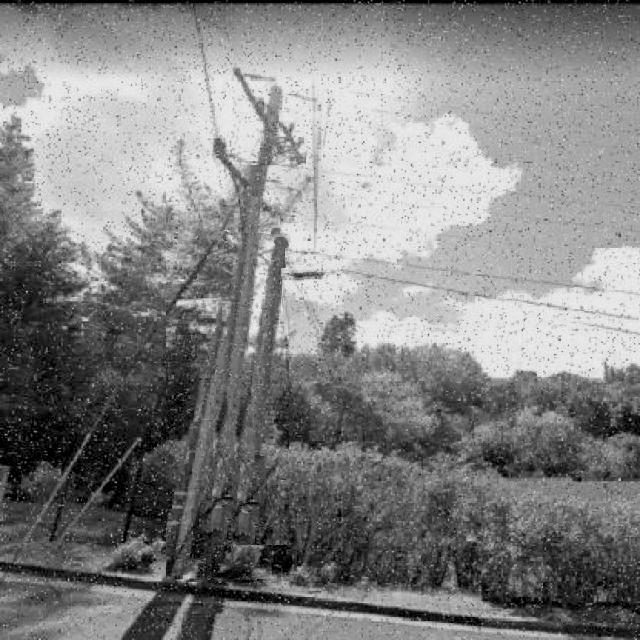crossarm: (233, 66, 306, 165)
pole: (166, 82, 283, 583), (231, 234, 289, 545)
wire: (282, 268, 639, 326), (286, 248, 639, 299), (191, 2, 219, 137)
